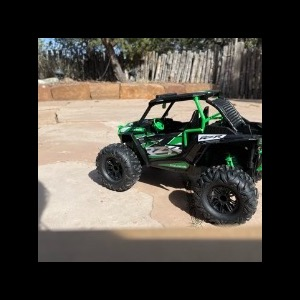polaris: (97, 90, 263, 227)
